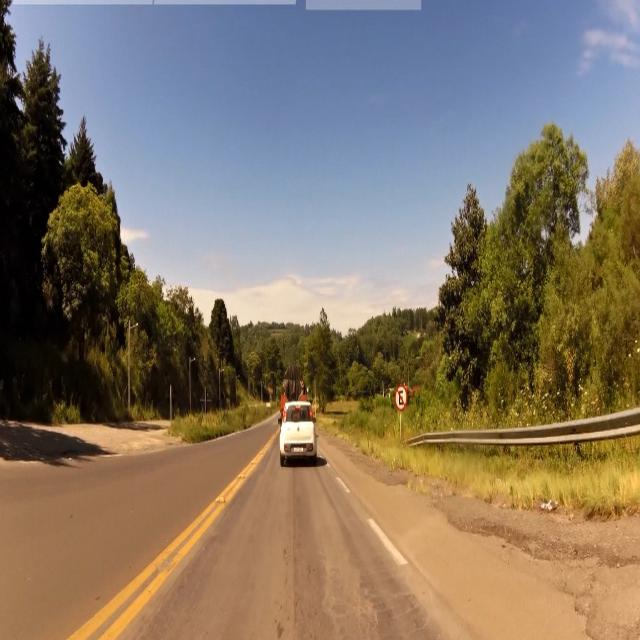R-6a: (394, 384, 407, 414)
